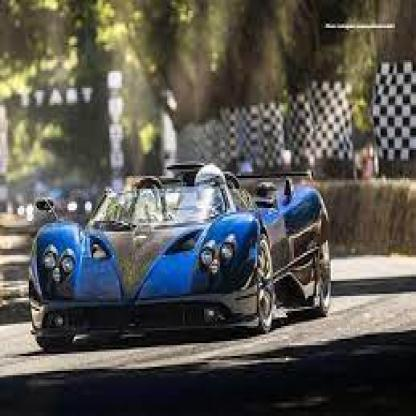car: (27, 163, 336, 329)
